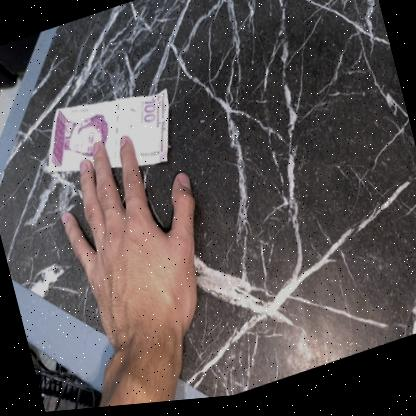one_hundred-front-vef: (34, 74, 184, 202)
